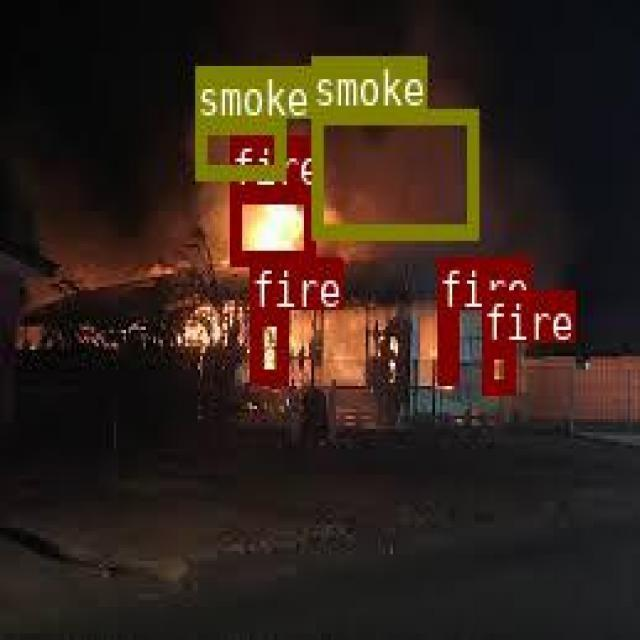fire: (227, 187, 312, 263), (249, 308, 285, 381), (480, 341, 513, 393), (437, 310, 456, 380)
smoke: (310, 107, 476, 235), (195, 117, 284, 178)
